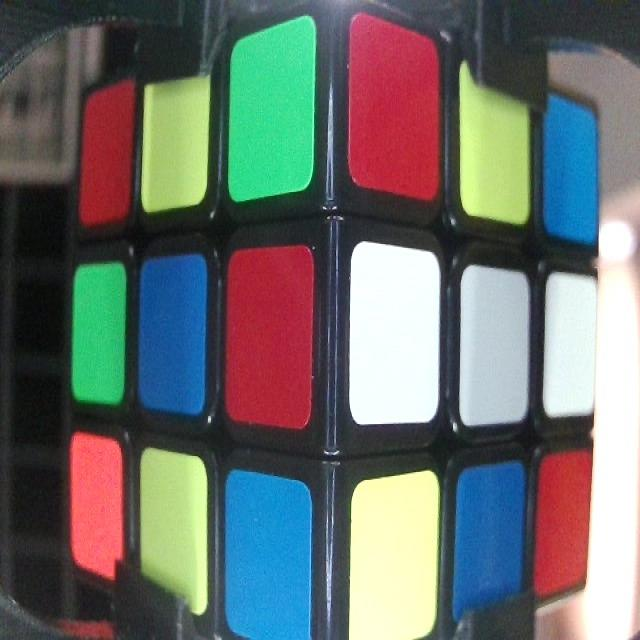b: (226, 499, 312, 636), (140, 275, 205, 397), (459, 486, 523, 592), (546, 115, 596, 224)
g: (232, 50, 311, 173), (74, 272, 124, 394)
o: (73, 446, 122, 560)
r: (228, 260, 311, 414), (349, 48, 438, 177), (543, 462, 585, 580), (86, 104, 128, 210)
w: (350, 264, 440, 406), (464, 287, 528, 411), (547, 279, 596, 410)
y: (352, 493, 438, 622), (143, 469, 203, 597), (462, 94, 529, 204), (147, 88, 207, 190)
